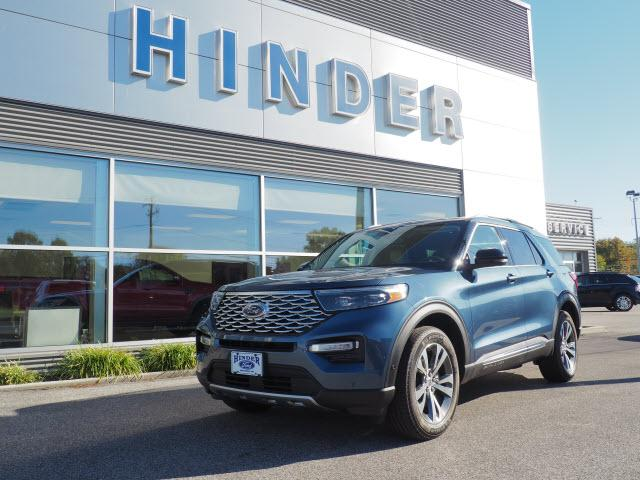Ford Explorer: (193, 212, 584, 442)
